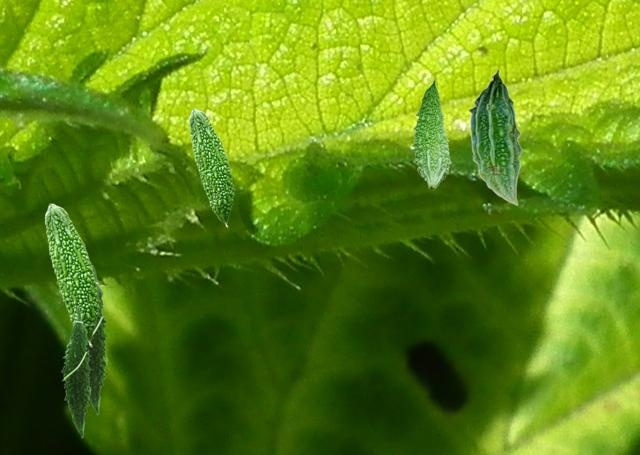ampalaya: (44, 203, 101, 347), (468, 68, 523, 206), (188, 108, 235, 228), (411, 77, 452, 191), (60, 306, 95, 438), (87, 264, 112, 415)
